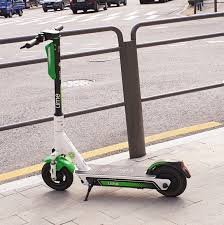kick_board: (20, 27, 191, 196)
kick_body: (89, 163, 150, 188)
kick_handler: (22, 25, 64, 50)
kick_neck: (49, 51, 68, 149)
kick_wheel: (154, 160, 186, 197), (42, 157, 74, 190)
